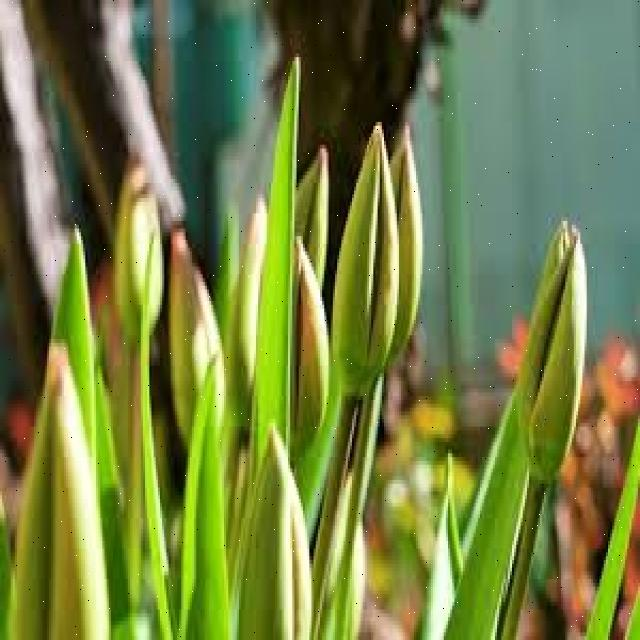Unbloomed: (332, 124, 408, 395), (528, 200, 591, 526), (164, 236, 233, 491)
